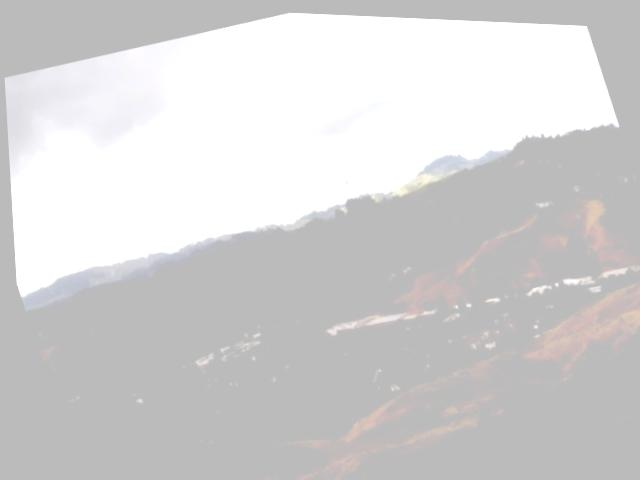iha: (337, 162, 364, 191)
